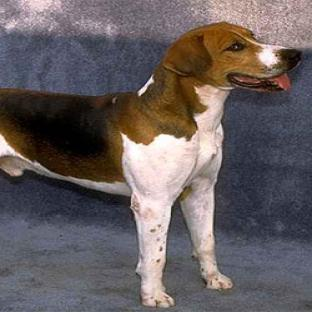Animal: (0, 22, 300, 306)
